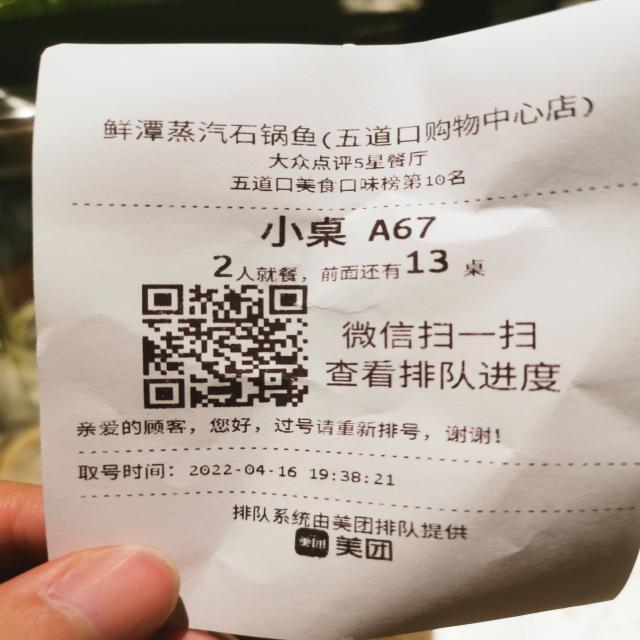qr_code: (143, 283, 309, 410)
